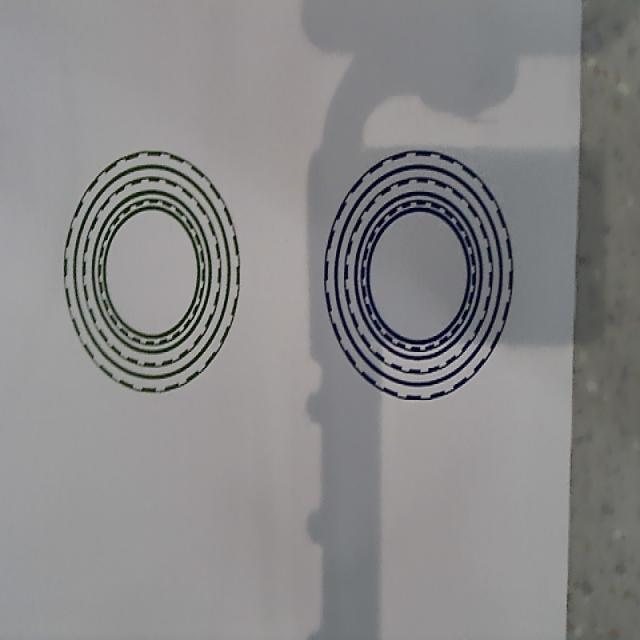b: (323, 149, 514, 400)
g: (63, 150, 240, 394)
